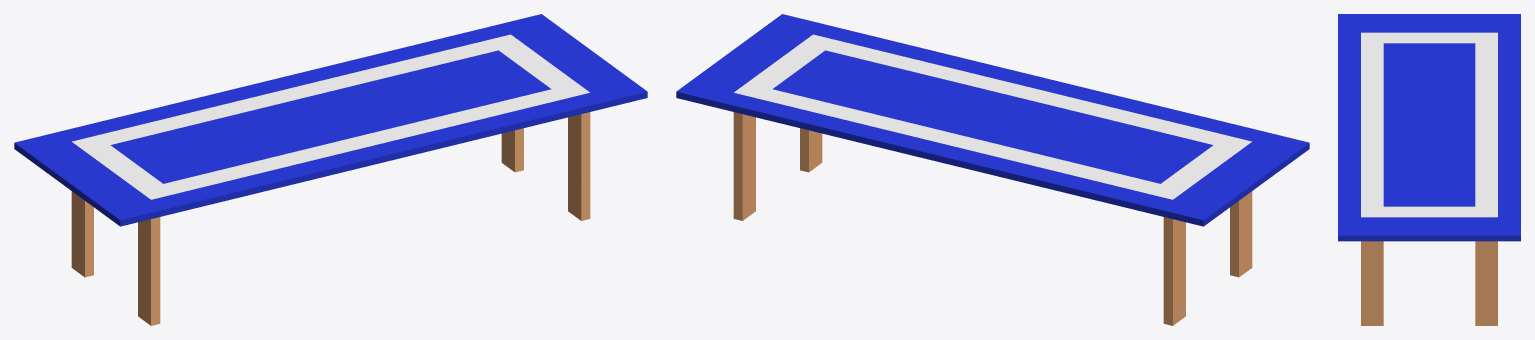
Rendered from BeerPongTable_1.fbx.
The picture shows the model from 3 angles, left to right: view 1: azimuth 30°, elevation 25°; view 2: azimuth 150°, elevation 25°; view 3: azimuth 270°, elevation 25°; orthographic projection. The views are drawn at different scales.
Visible parts, largest first — view 1: BeerPongTable_1; view 2: BeerPongTable_1; view 3: BeerPongTable_1.
Boxes of the visible parts, x1,y1,x2,y2 form: BeerPongTable_1: (14,14,647,325); BeerPongTable_1: (676,14,1309,325); BeerPongTable_1: (1338,14,1520,325).
Bounding box in the file's own units: 574 × 131 × 200.
